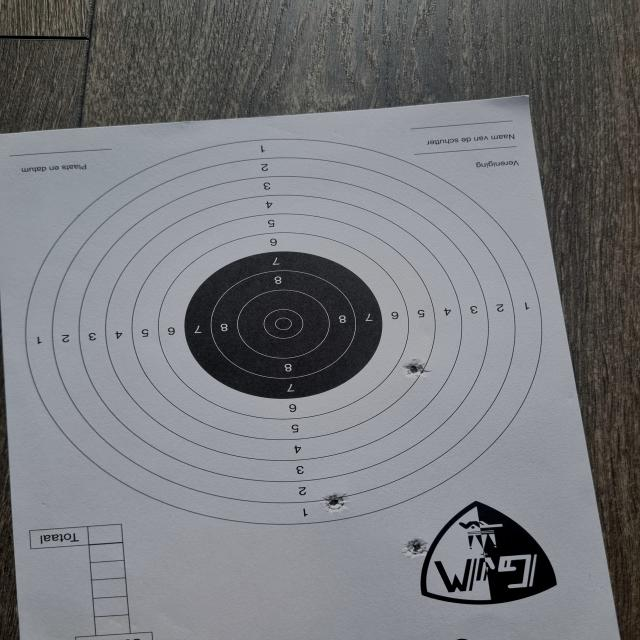0: (402, 537, 430, 558)
2: (321, 494, 349, 512)
5: (402, 360, 432, 377)
Target: (22, 138, 544, 527)
black_contour: (188, 249, 382, 400)
